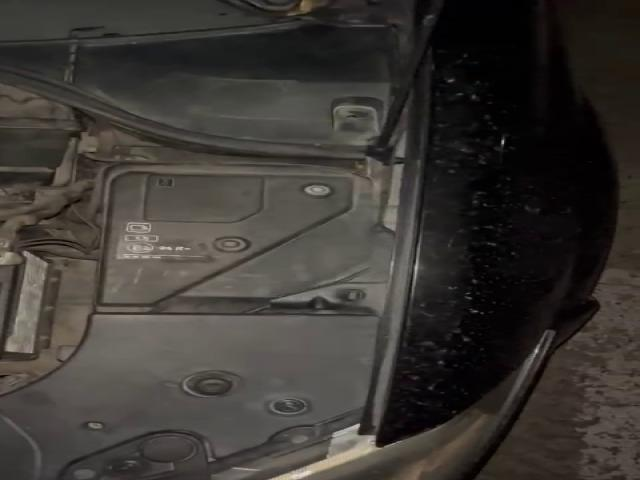fuse_box: (97, 173, 370, 307)
